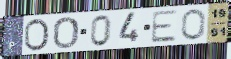0: (88, 13, 113, 48)
4: (117, 10, 143, 47)
E: (149, 9, 178, 45)
O: (52, 16, 81, 50), (23, 17, 51, 52), (180, 8, 207, 41)
